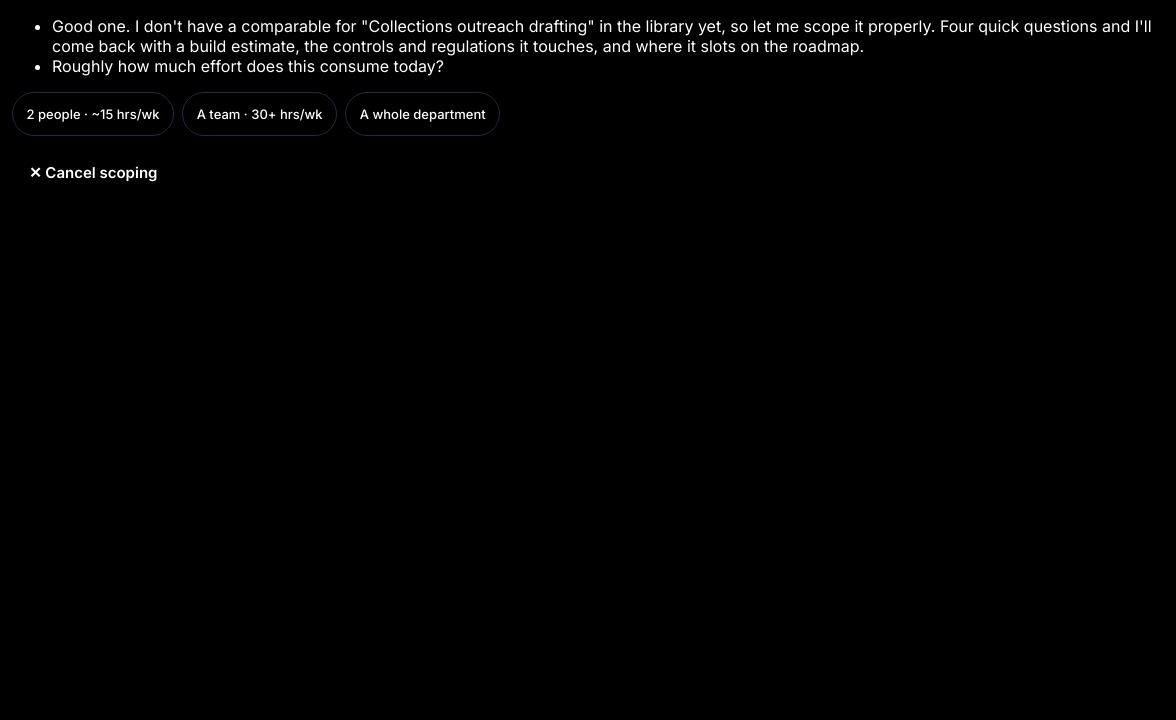
Test: wizard full flow — 4 questions in base INTAKE order (base 4357-4368, 4434-4444) › review panel Regulations row carries the conditional SOX 404/ICFR and GLBA-safeguards clauses (base 4392; STU-09)
The width and height of the screenshot is (1176, 720).
Click the button "A team · 30+ hrs/wk" at (260, 114), box left=182, top=92, right=337, bottom=136
Wait 700 ms
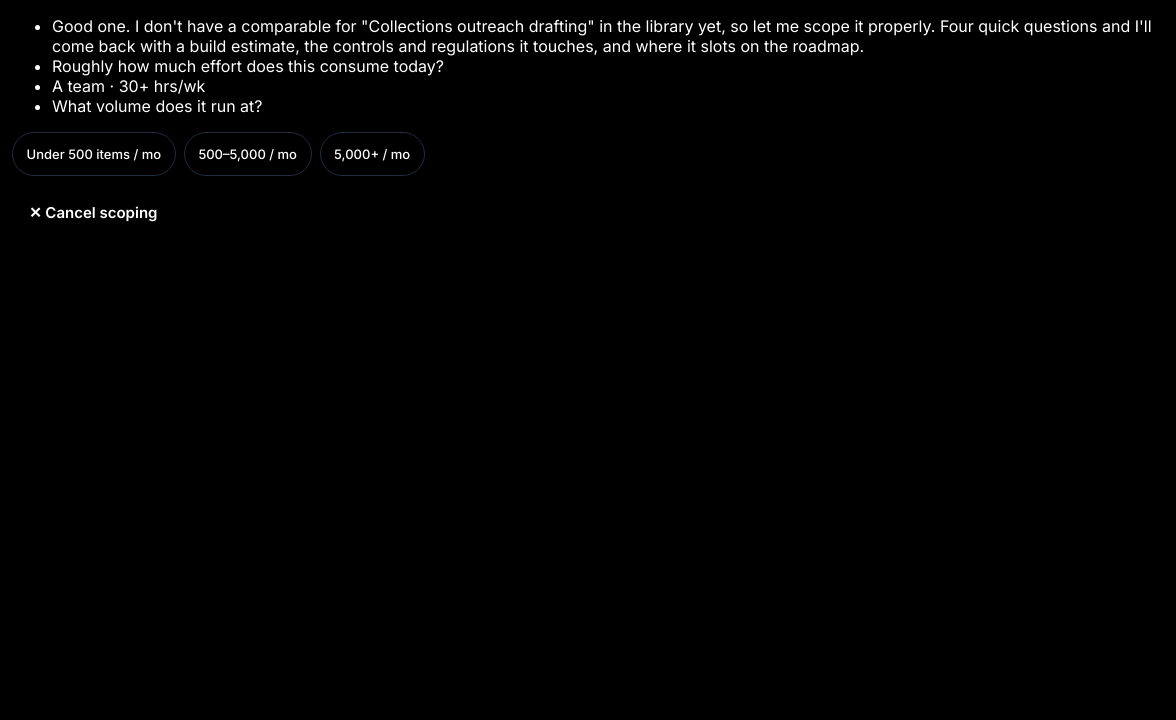
Click the button "500–5,000 / mo" at (248, 154), box left=184, top=132, right=312, bottom=176
Wait 700 ms
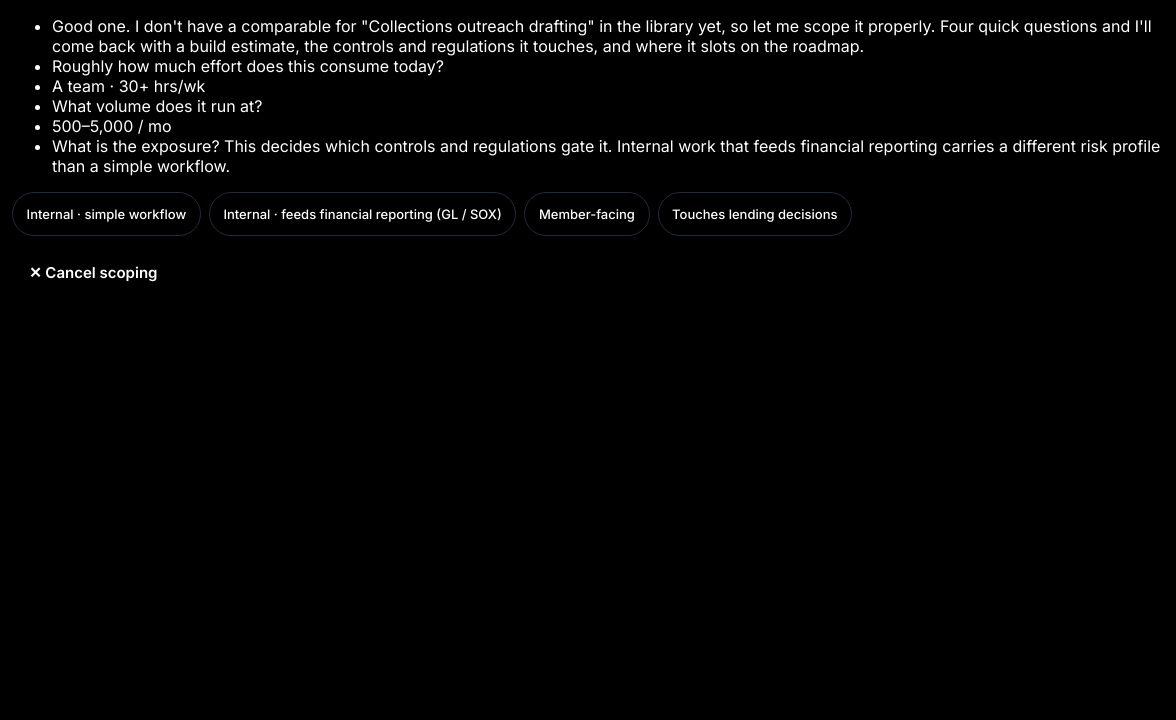
Click the button "Internal · feeds financial reporting (GL / SOX)" at (363, 214), box left=209, top=192, right=516, bottom=236
Wait 700 ms
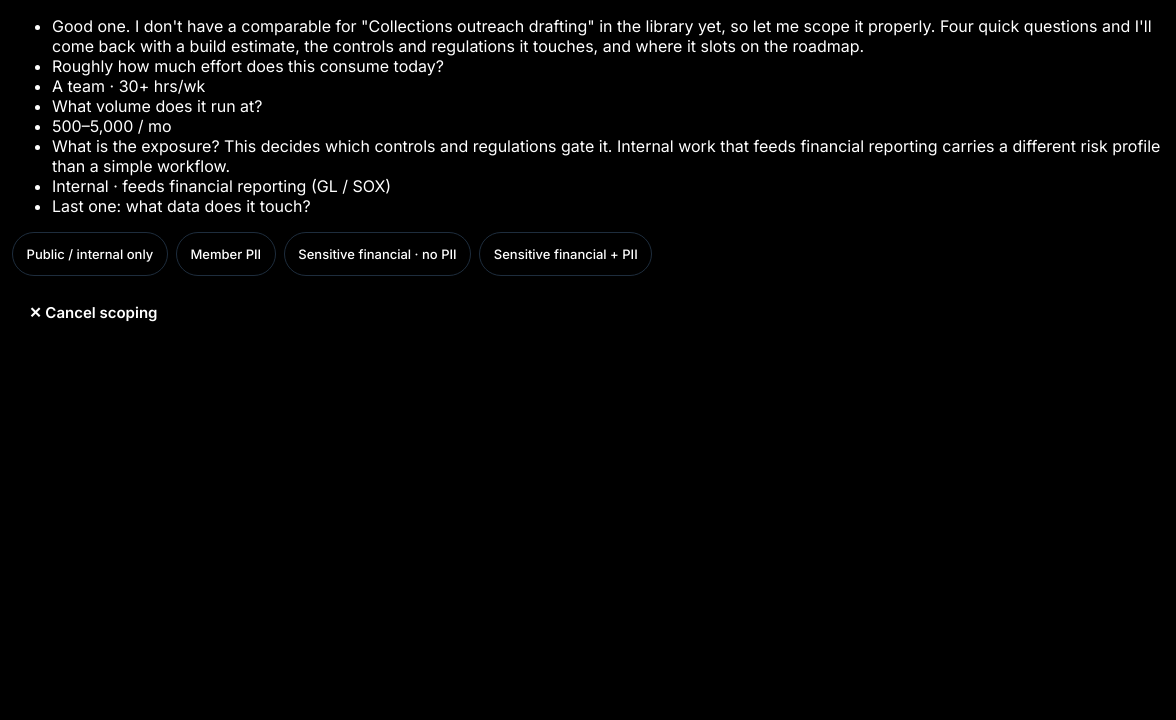
Click the button "Sensitive financial · no PII" at (377, 254), box left=284, top=232, right=471, bottom=276
Wait 700 ms
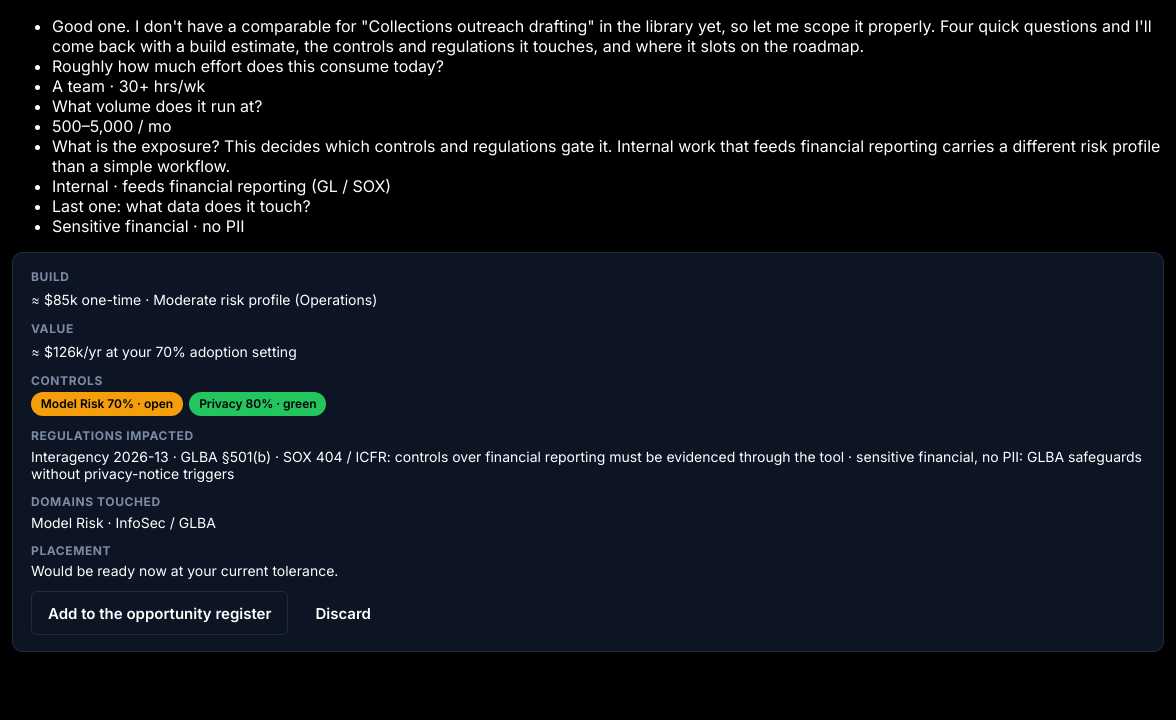
Check: the element named "Scoping result" shows "SOX 404 / ICFR: controls over financial reporting must be evidenced through the tool", box left=271, top=448, right=844, bottom=465
Check: the element named "Scoping result" shows "sensitive financial, no PII: GLBA safeguards without privacy-notice triggers", box left=31, top=448, right=1142, bottom=482
